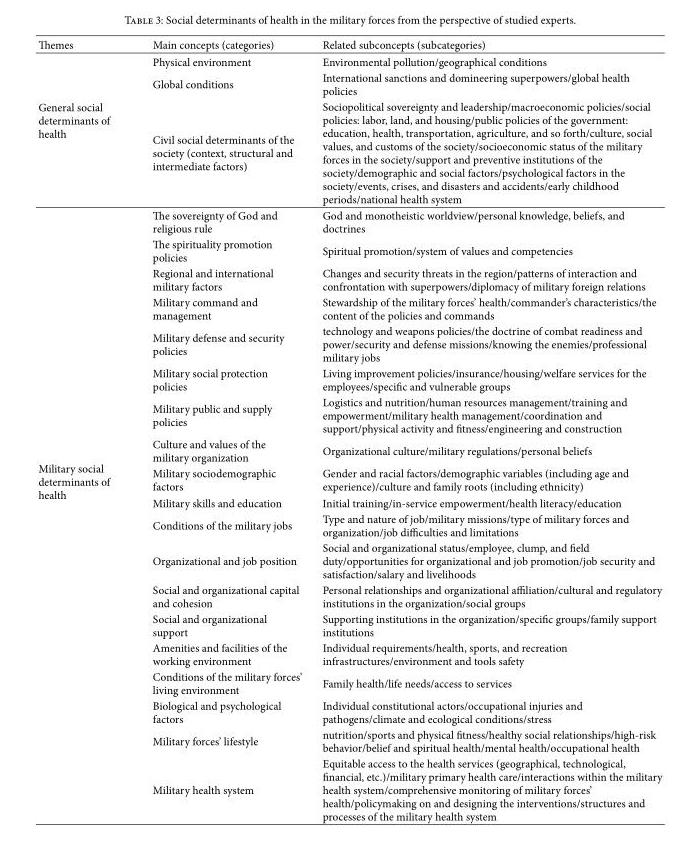table: (37, 36, 661, 823)
table column: (308, 36, 661, 823), (130, 36, 308, 823), (37, 36, 130, 823)
table column header: (37, 36, 661, 52)
table row: (37, 98, 661, 206), (37, 755, 661, 823), (37, 322, 661, 364), (37, 393, 661, 435), (37, 539, 661, 581), (37, 464, 661, 494), (37, 69, 661, 98), (37, 206, 661, 235), (37, 235, 661, 264), (37, 264, 661, 293), (37, 293, 661, 322), (37, 364, 661, 393), (37, 435, 661, 464), (37, 510, 661, 539), (37, 581, 661, 610), (37, 610, 661, 639), (37, 639, 661, 668), (37, 668, 661, 697), (37, 697, 661, 726), (37, 726, 661, 755), (37, 52, 661, 69), (37, 36, 661, 52), (37, 494, 661, 510)
table spanning cell: (37, 206, 130, 823), (37, 52, 130, 206)
